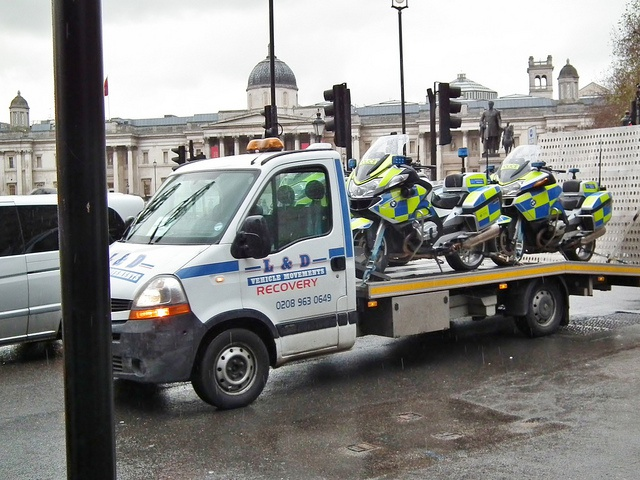non-vehicle: (344, 132, 511, 278), (489, 142, 613, 266)
